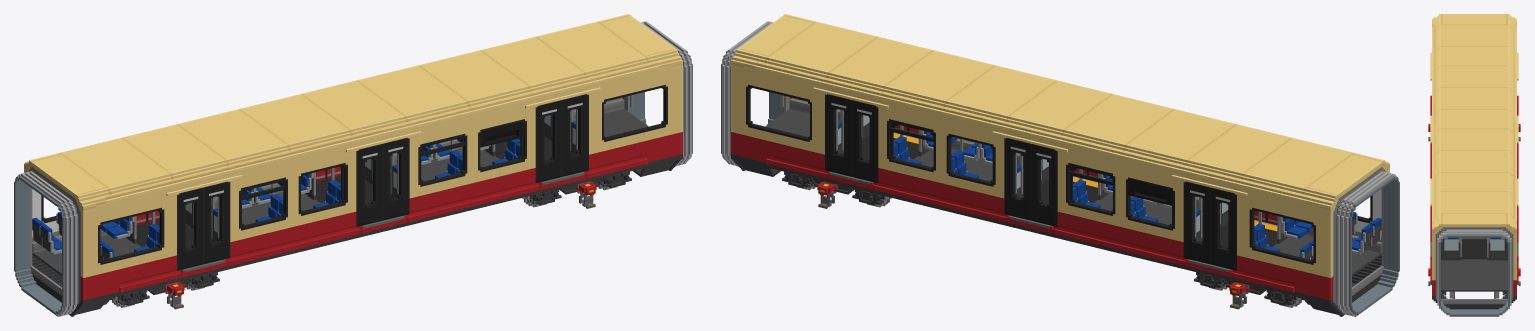
3 renders of one model, left to right at view 1: azimuth 30°, elevation 25°; view 2: azimuth 150°, elevation 25°; view 3: azimuth 270°, elevation 25°, orthographic. The views are drawn at different scales.
Visible parts, largest first — view 1: FRAME_1, FRAME_2, INTERIOR_LCG_il_LINVERT_5, INTERIOR_LCG_il_LINVERT_6, INTERIOR_LCG_il_LINVERT_4, INTERIOR_LCG_il_LINVERT_11, INTERIOR_LCG_il_LINVERT_7, INTERIOR_LCG_il_LINVERT_12, BOGEY_REAR, BOGEY_FRONT, INTERIOR_LCG_il_LINVERT_13, INTERIOR_LCG_il_LINVERT_1 (+2 smaller); view 2: FRAME_1, FRAME_2, INTERIOR_LCG_il_LINVERT_6, INTERIOR_LCG_il_LINVERT_5, INTERIOR_LCG_il_LINVERT_4, INTERIOR_LCG_il_LINVERT_11, INTERIOR_LCG_il_LINVERT_7, INTERIOR_LCG_il_LINVERT_13, BOGEY_REAR, BOGEY_FRONT, INTERIOR_LCG_il_LINVERT_12, INTERIOR_LCG_il_LINVERT_1 (+2 smaller); view 3: FRAME_2, FRAME_1, INTERIOR_LCG_il_LINVERT_7, INTERIOR_LCG_il_LINVERT_3, BOGEY_REAR, BOGEY_REAR_WHEEL_1.
Boxes of the visible parts, x1=… form: FRAME_1: x1=14, y1=87, x2=385, y2=316; FRAME_2: x1=329, y1=14, x2=692, y2=231; INTERIOR_LCG_il_LINVERT_5: x1=185, y1=166, x2=344, y2=241; INTERIOR_LCG_il_LINVERT_6: x1=365, y1=130, x2=523, y2=197; INTERIOR_LCG_il_LINVERT_4: x1=32, y1=189, x2=160, y2=275; INTERIOR_LCG_il_LINVERT_11: x1=32, y1=211, x2=159, y2=259; INTERIOR_LCG_il_LINVERT_7: x1=544, y1=87, x2=664, y2=154; INTERIOR_LCG_il_LINVERT_12: x1=211, y1=173, x2=340, y2=222; BOGEY_REAR: x1=530, y1=171, x2=631, y2=208; BOGEY_FRONT: x1=118, y1=272, x2=219, y2=309; INTERIOR_LCG_il_LINVERT_13: x1=390, y1=138, x2=520, y2=178; INTERIOR_LCG_il_LINVERT_1: x1=136, y1=195, x2=220, y2=249; FRAME_1: x1=1028, y1=87, x2=1399, y2=316; FRAME_2: x1=721, y1=14, x2=1085, y2=231; INTERIOR_LCG_il_LINVERT_6: x1=890, y1=122, x2=1048, y2=197; INTERIOR_LCG_il_LINVERT_5: x1=1069, y1=166, x2=1228, y2=241; INTERIOR_LCG_il_LINVERT_4: x1=1253, y1=189, x2=1381, y2=275; INTERIOR_LCG_il_LINVERT_11: x1=1254, y1=211, x2=1381, y2=259; INTERIOR_LCG_il_LINVERT_7: x1=749, y1=87, x2=869, y2=154; INTERIOR_LCG_il_LINVERT_13: x1=893, y1=130, x2=1023, y2=178; BOGEY_REAR: x1=782, y1=171, x2=883, y2=208; BOGEY_FRONT: x1=1194, y1=272, x2=1295, y2=309; INTERIOR_LCG_il_LINVERT_12: x1=1073, y1=174, x2=1202, y2=222; INTERIOR_LCG_il_LINVERT_1: x1=1193, y1=195, x2=1277, y2=249; FRAME_2: x1=1430, y1=118, x2=1518, y2=316; FRAME_1: x1=1430, y1=14, x2=1518, y2=178; INTERIOR_LCG_il_LINVERT_7: x1=1441, y1=237, x2=1507, y2=291; INTERIOR_LCG_il_LINVERT_3: x1=1462, y1=239, x2=1486, y2=259; BOGEY_REAR: x1=1428, y1=268, x2=1520, y2=295; BOGEY_REAR_WHEEL_1: x1=1449, y1=291, x2=1499, y2=298.
Bounding box in the file's own units: 18.44 × 3.69 × 3.25.
Materials: 1 (1 with a texture image).
